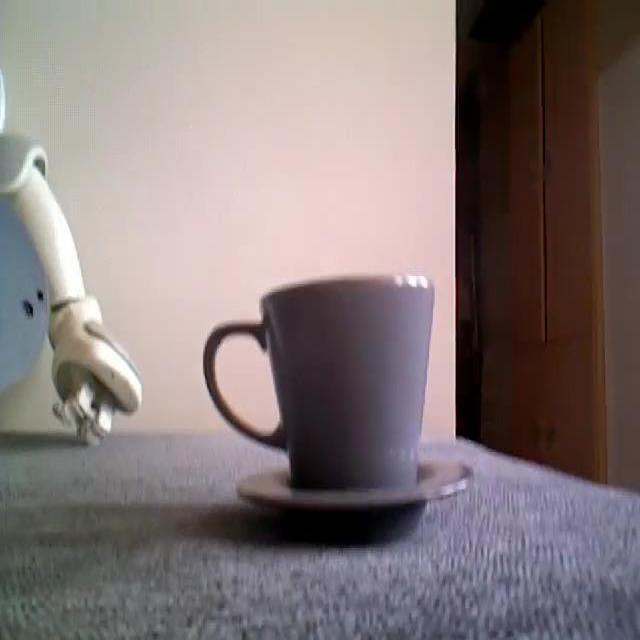cup: (215, 272, 452, 520)
